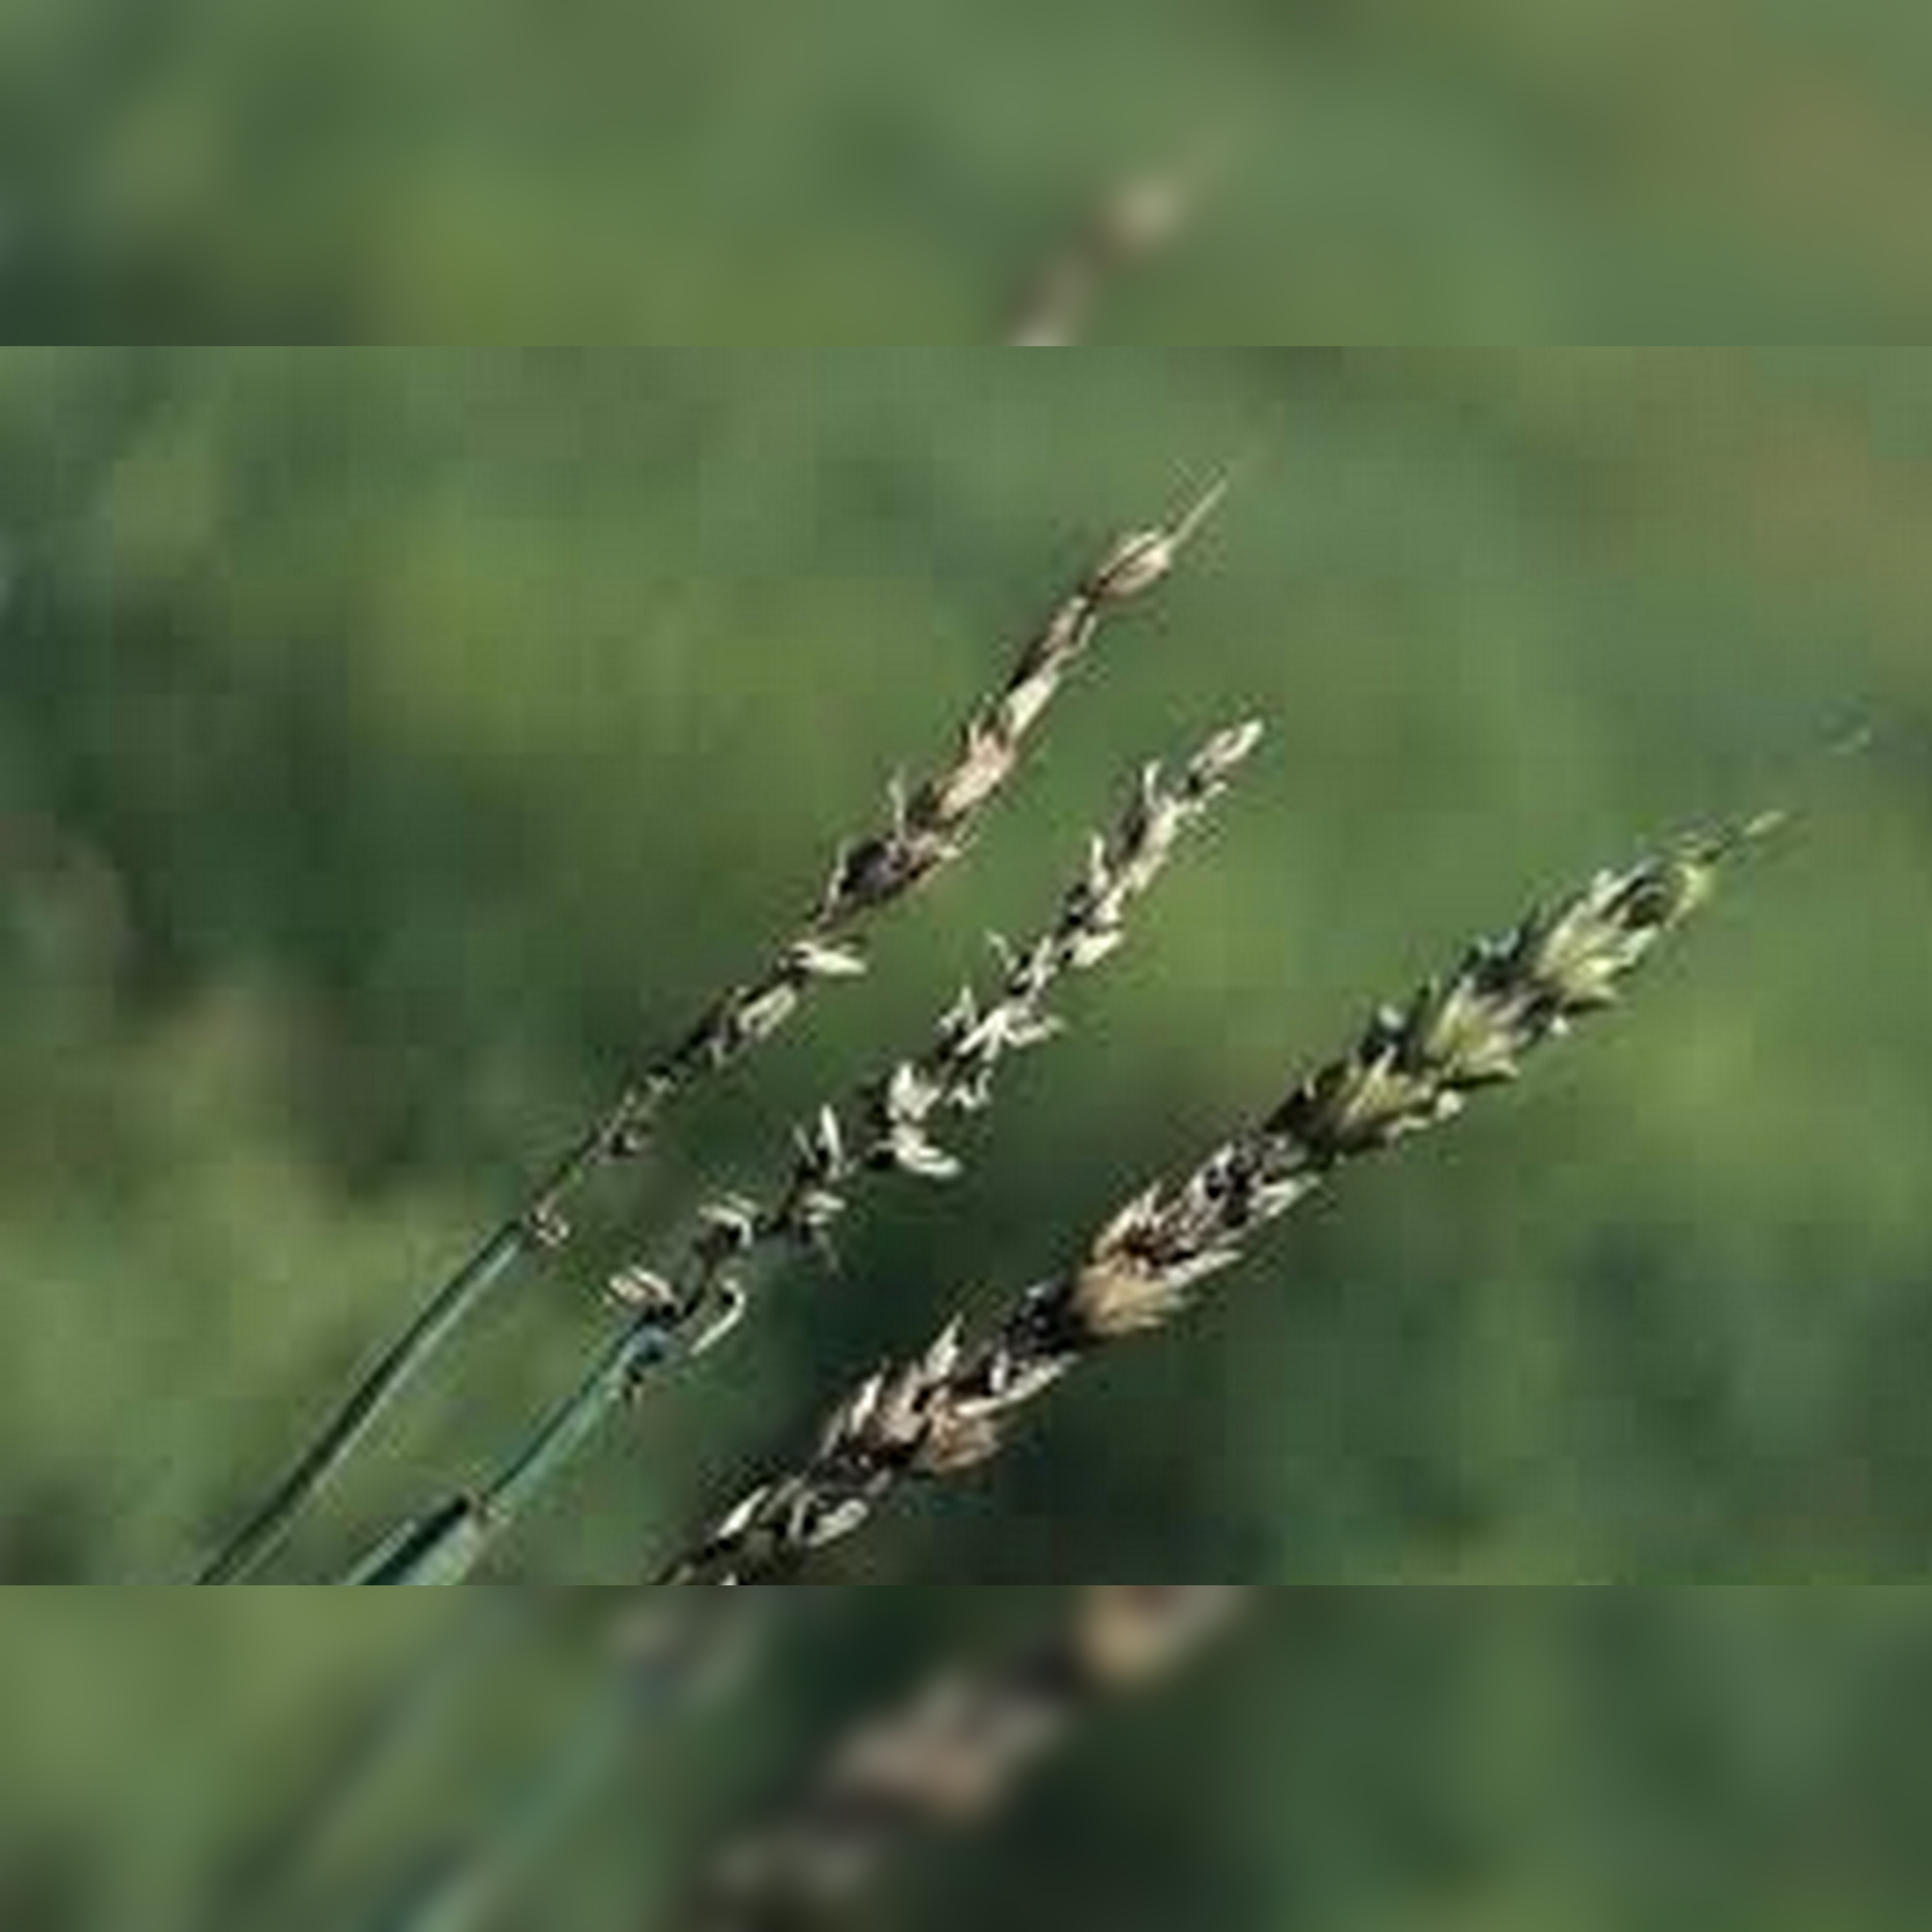Wheat Loose Smut: (511, 536, 1798, 1514)
